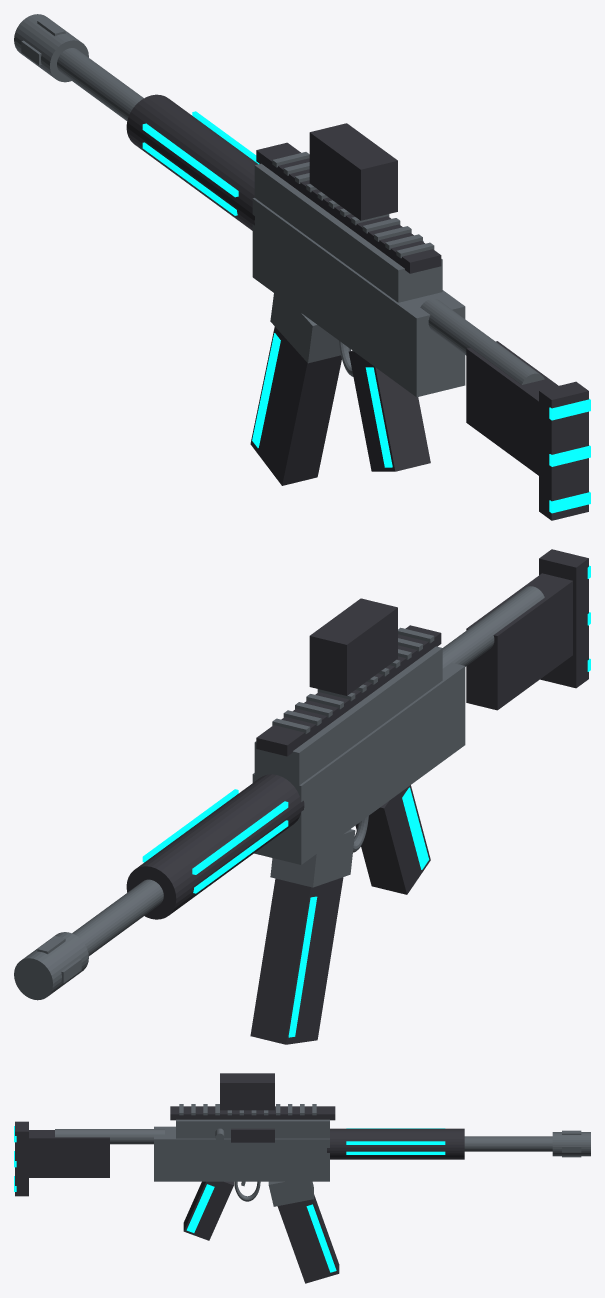
The model's file is vortex_rifle.glb.
The picture shows the model from 3 angles, top to bottom: view 1: azimuth 30°, elevation 25°; view 2: azimuth 150°, elevation 25°; view 3: azimuth 270°, elevation 25°; orthographic projection. The views are drawn at different scales.
Visible parts, largest first — view 1: Receiver_Main, Magazine_Body, Barrel_Handguard, Receiver_Upper, Optic_Housing, Stock_Frame, Pistol_Grip, Stock_Buttpad, Picatinny_Rail, Stock_Buffer_Tube, Barrel_Main, Magazine_Well (+5 smaller); view 2: Receiver_Main, Magazine_Body, Barrel_Handguard, Stock_Frame, Receiver_Upper, Optic_Housing, Pistol_Grip, Picatinny_Rail, Stock_Buttpad, Muzzle_Brake, Barrel_Main, Stock_Buffer_Tube (+6 smaller); view 3: Receiver_Main, Barrel_Handguard, Stock_Frame, Magazine_Body, Receiver_Upper, Optic_Housing, Picatinny_Rail, Pistol_Grip, Barrel_Main, Stock_Buffer_Tube, Stock_Buttpad, Magazine_Well (+6 smaller).
Boxes of the visible parts, x1,y1,x2,y2 form: Receiver_Main: (252, 198, 465, 397); Magazine_Body: (250, 326, 341, 485); Barrel_Handguard: (126, 94, 257, 230); Receiver_Upper: (254, 163, 442, 302); Optic_Housing: (309, 123, 397, 220); Stock_Frame: (466, 341, 558, 475); Pistol_Grip: (348, 350, 430, 471); Stock_Buttpad: (539, 381, 588, 520); Picatinny_Rail: (256, 142, 441, 273); Stock_Buffer_Tube: (420, 298, 544, 384); Barrel_Main: (57, 48, 143, 120); Magazine_Well: (270, 293, 350, 363); Receiver_Main: (252, 662, 465, 864); Magazine_Body: (250, 877, 343, 1044); Barrel_Handguard: (126, 774, 304, 919); Stock_Frame: (466, 573, 572, 710); Receiver_Upper: (254, 646, 442, 794); Optic_Housing: (309, 598, 397, 695); Pistol_Grip: (355, 785, 430, 894); Picatinny_Rail: (256, 625, 441, 756); Stock_Buttpad: (539, 549, 588, 688); Muzzle_Brake: (14, 932, 88, 1000); Barrel_Main: (72, 879, 163, 956); Stock_Buffer_Tube: (442, 586, 544, 668); Receiver_Main: (154, 1126, 329, 1181); Barrel_Handguard: (327, 1128, 464, 1159); Stock_Frame: (29, 1130, 109, 1177); Magazine_Body: (277, 1194, 339, 1283); Receiver_Upper: (176, 1119, 329, 1138); Optic_Housing: (220, 1073, 274, 1110); Picatinny_Rail: (170, 1106, 335, 1120); Pistol_Grip: (183, 1181, 233, 1240); Barrel_Main: (464, 1136, 552, 1151); Stock_Buffer_Tube: (55, 1129, 164, 1144); Stock_Buttpad: (15, 1121, 28, 1196); Magazine_Well: (268, 1181, 313, 1206).
Size of the model in its own units: 0.077 by 0.4034 by 1.05.
